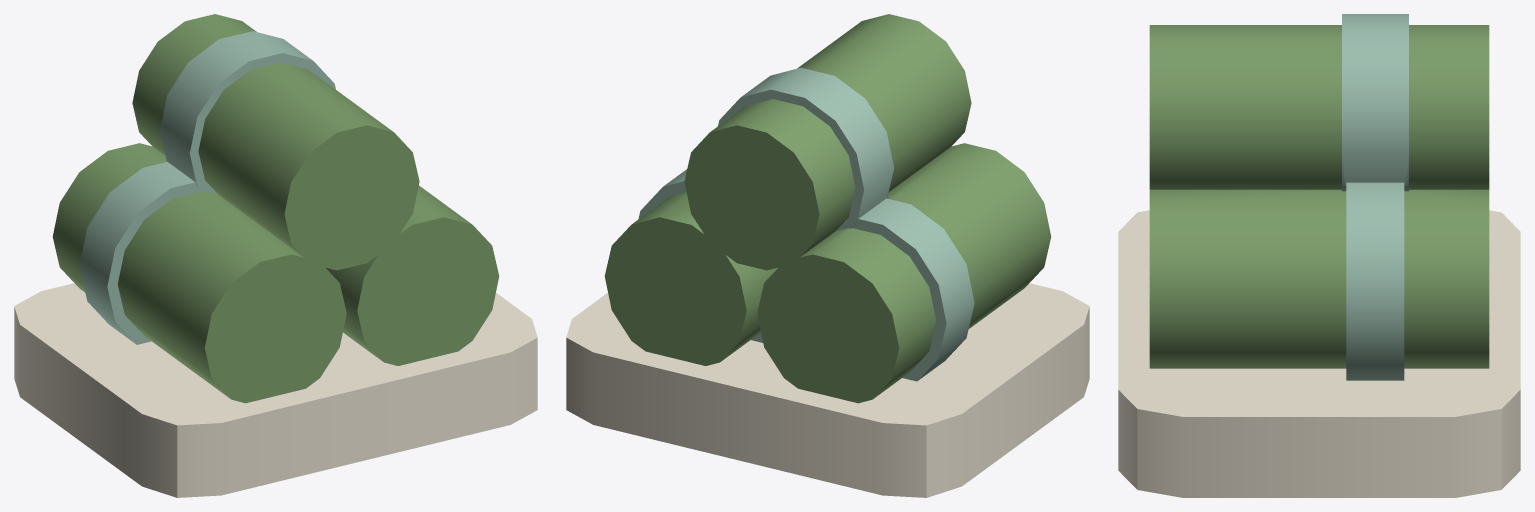
The model's file is yoga-mat-roll-stack.glb.
3 renders of one model, left to right at view 1: azimuth 30°, elevation 25°; view 2: azimuth 150°, elevation 25°; view 3: azimuth 270°, elevation 25°, orthographic. The views are drawn at different scales.
Parts seen in each view (by area): view 1: yoga-mat-roll-stack; view 2: yoga-mat-roll-stack; view 3: yoga-mat-roll-stack.
Boxes of the visible parts, x1=… form: yoga-mat-roll-stack: x1=14, y1=14, x2=537, y2=497; yoga-mat-roll-stack: x1=566, y1=14, x2=1089, y2=497; yoga-mat-roll-stack: x1=1118, y1=14, x2=1520, y2=497.
Bounding box in the file's own units: 2.25 × 1.82 × 1.8.
Materials: 2 (2 with a texture image).
